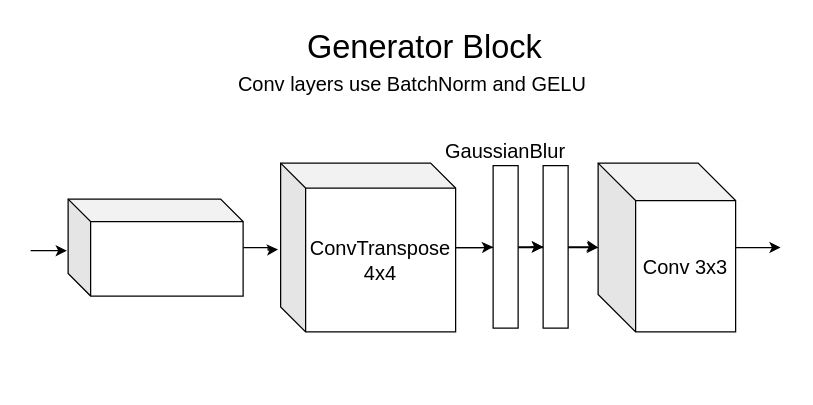
The diagram is 813 pixels wide and 405 high, and some of its shapes have lost their labels. The shapes that lost their labels are listed below. From the top down, each one's centre as x and y in pixels, then its label:
At [155,247]: "Input".
At [555,246]: "Adaptive NoiseLayer".
